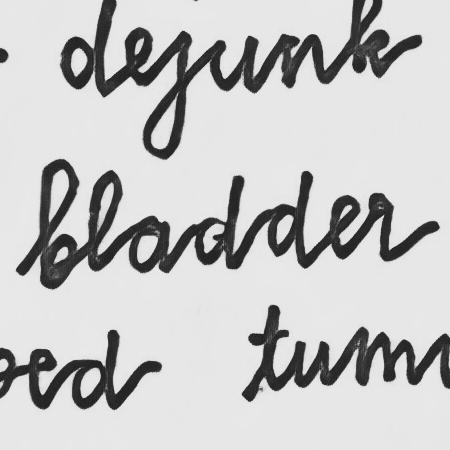a: (126, 213, 174, 276)
b: (36, 156, 81, 291)
d: (191, 171, 247, 273), (264, 168, 315, 270)
e: (325, 194, 362, 261)
l: (83, 167, 125, 273)
r: (363, 190, 403, 265)
